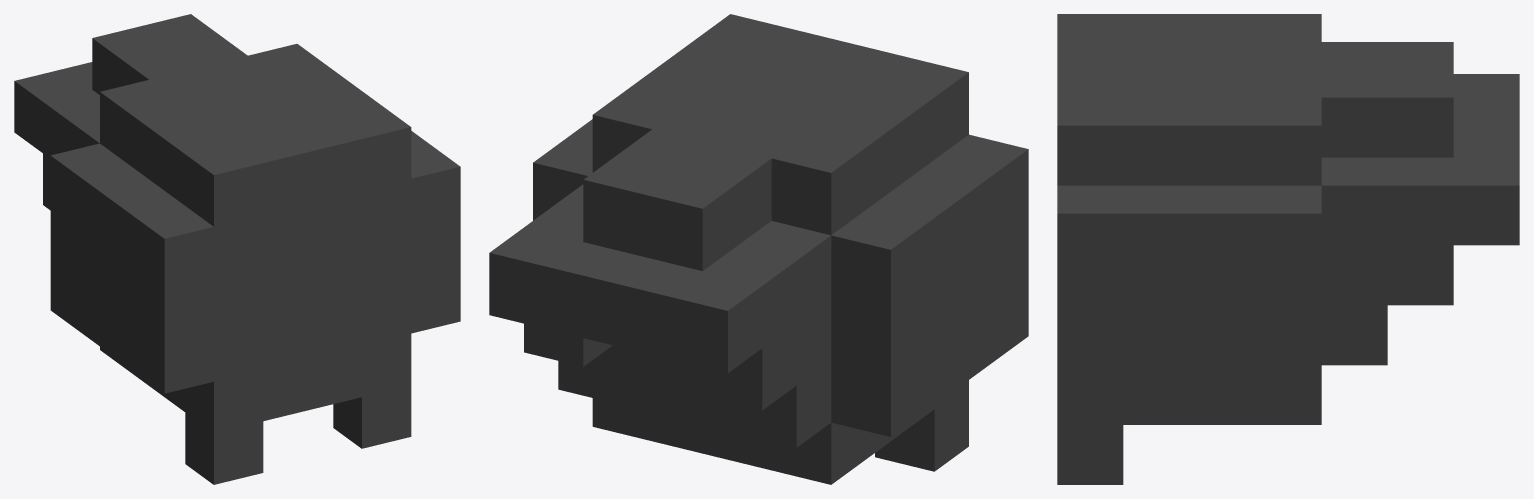
The model's file is Extra-19-Transtellar_Thruster_R.obj.
3 renders of one model, left to right at view 1: azimuth 30°, elevation 25°; view 2: azimuth 150°, elevation 25°; view 3: azimuth 270°, elevation 25°, orthographic. The views are drawn at different scales.
Parts seen in each view (by area): view 1: Transtellar_Thruster_R; view 2: Transtellar_Thruster_R; view 3: Transtellar_Thruster_R.
Part boxes in pixels (x1,y1,x2,y2): Transtellar_Thruster_R: [14, 14, 460, 484]; Transtellar_Thruster_R: [489, 14, 1028, 484]; Transtellar_Thruster_R: [1057, 14, 1519, 484].
Bounding box in the file's own units: 0.6 × 0.6 × 0.7.
1 material, 1 textured.
